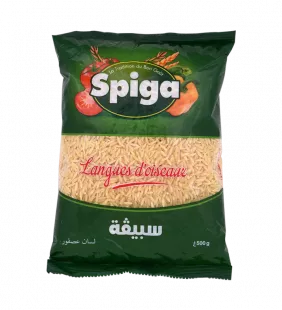SPIGA: (37, 21, 243, 290)
